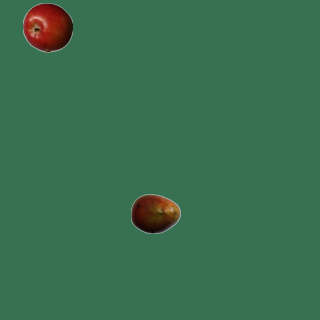Apple Braeburn: (22, 2, 72, 52)
Mango Red: (130, 188, 180, 238)
